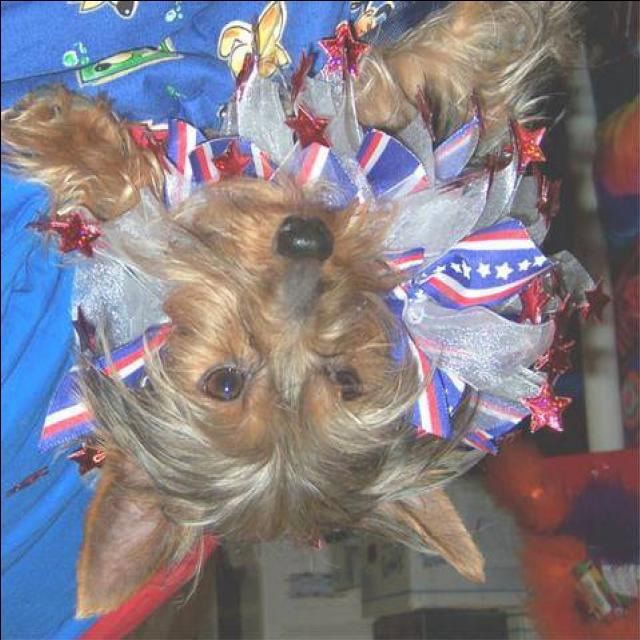dog: (1, 2, 606, 606)
